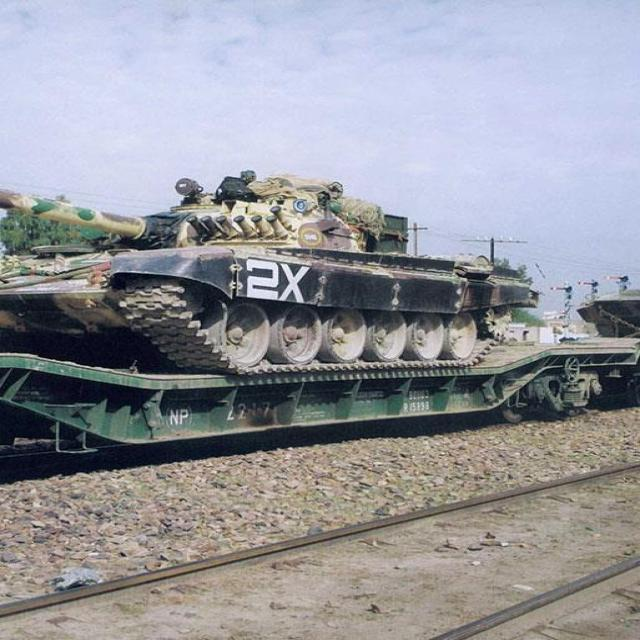MIL_MBT: (19, 169, 535, 347)
